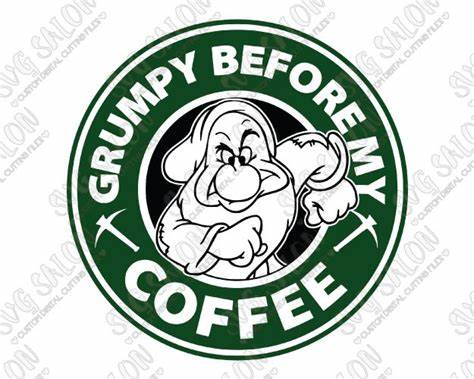starbucks Fake: (63, 13, 416, 368)
